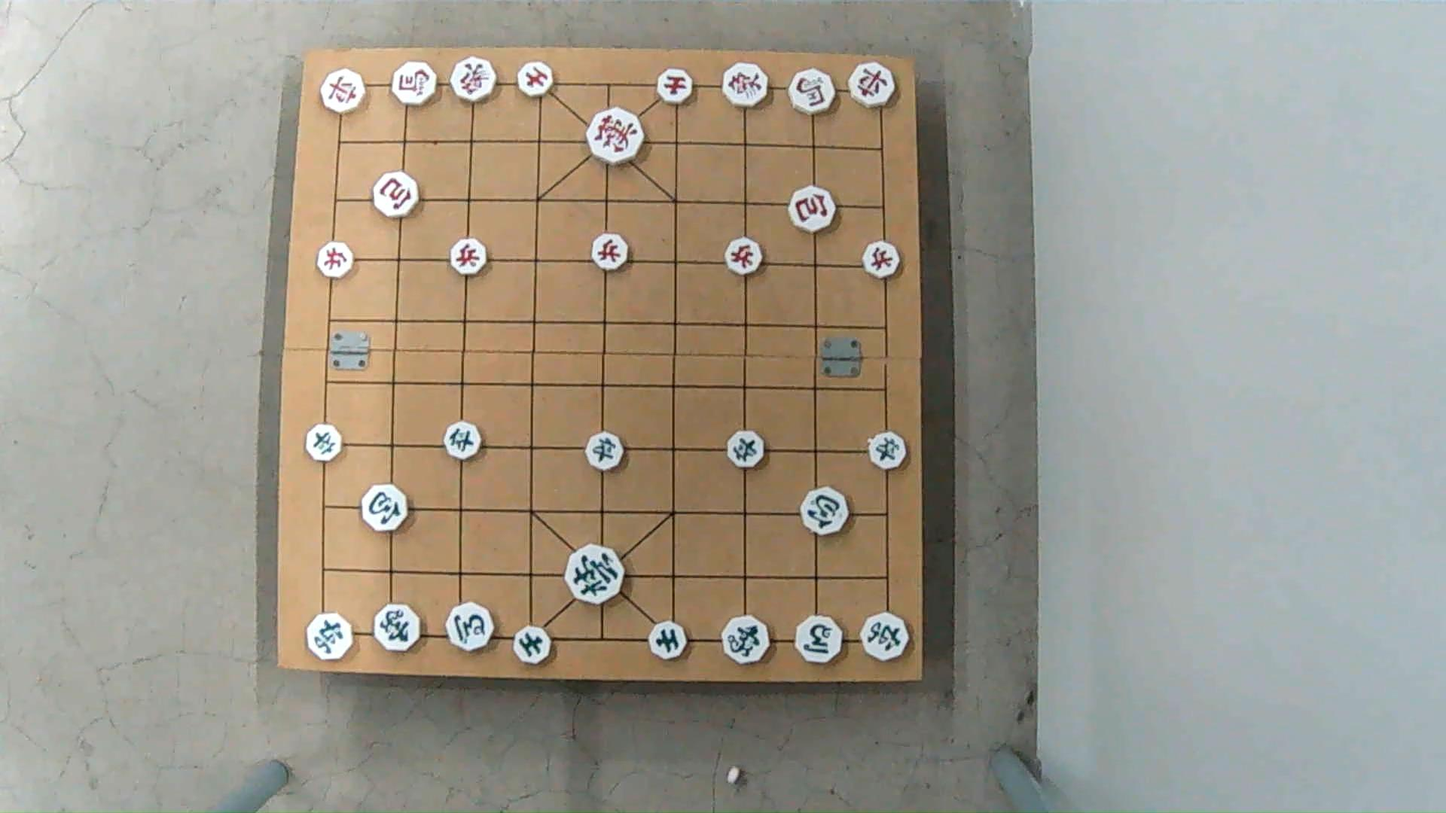cha_green: (861, 611, 908, 665), (306, 614, 353, 659)
cha_red: (847, 62, 898, 107), (319, 70, 365, 112)
jol_green: (588, 434, 628, 470), (726, 432, 765, 468), (867, 434, 907, 469), (446, 425, 484, 461), (306, 427, 343, 462)
jol_red: (724, 240, 764, 276), (590, 234, 628, 270), (863, 244, 902, 279), (450, 241, 489, 276), (316, 245, 355, 279)
ma_green: (444, 601, 493, 653), (795, 616, 844, 662)
ma_red: (787, 71, 836, 115), (389, 63, 435, 105)
po_green: (798, 489, 847, 534), (364, 486, 411, 530)
po_red: (789, 188, 837, 233), (375, 173, 420, 216)
sa_green: (648, 623, 688, 659), (512, 628, 551, 663)
sa_red: (516, 65, 555, 99), (654, 70, 692, 104)
sang_green: (372, 604, 422, 651), (723, 616, 770, 663)
sang_red: (723, 62, 769, 108), (450, 57, 496, 102)
wang_green: (566, 548, 626, 605)
wang_red: (588, 110, 646, 163)
